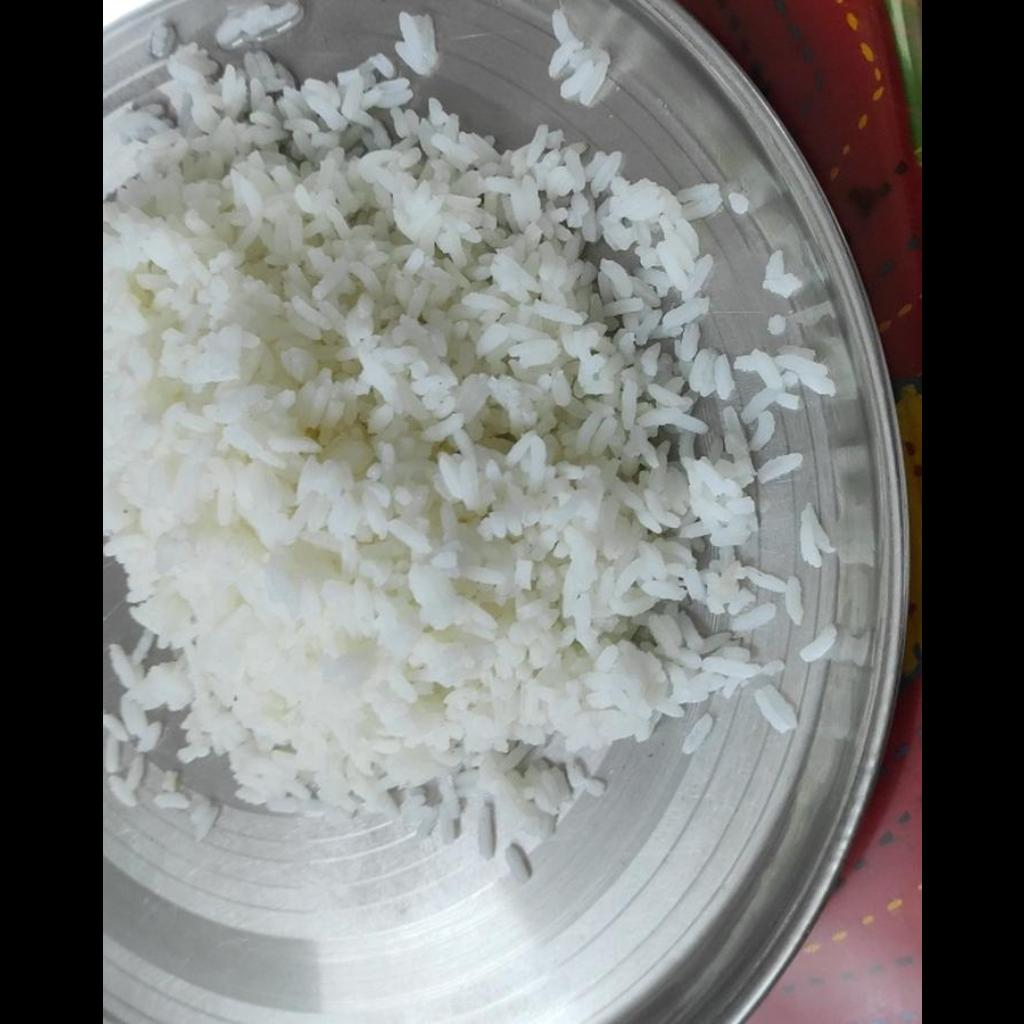rice: (102, 37, 830, 868)
